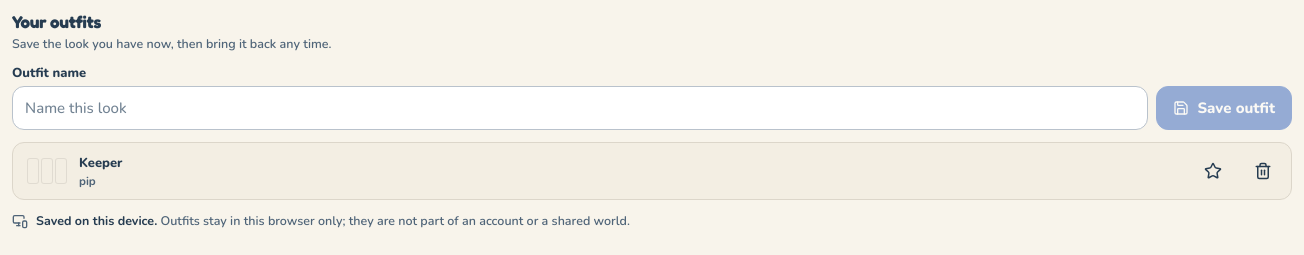
wardrobe panel › asks before removing and keeps the outfit when the removal is declined
This screenshot has width=1304, height=255.
Click the button named "Remove Keeper" at (1263, 171), box [1241,149,1285,193]
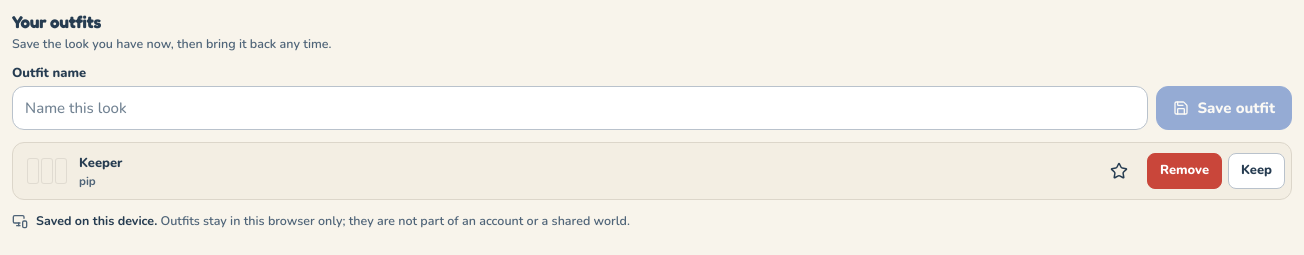
Now the element named "Remove Keeper?" is shown, box [1147,153,1285,189]
Click the button with aria-label "Keep Keeper" at (1256, 171), box [1228,153,1285,189]
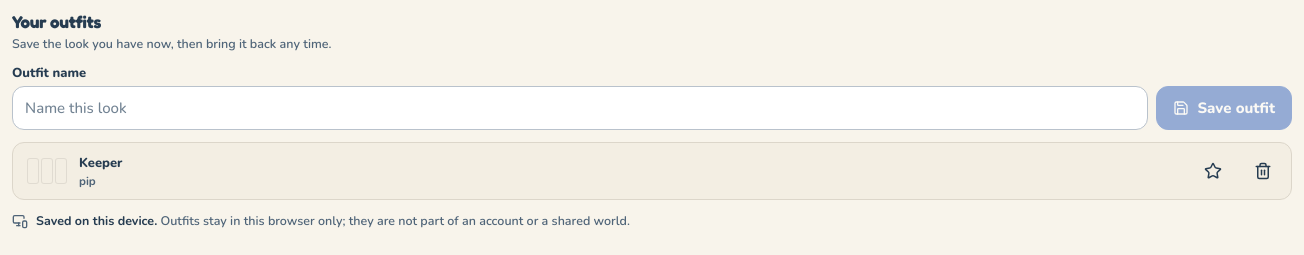
Click the button named "Remove Keeper" at (1263, 171), box [1241,149,1285,193]
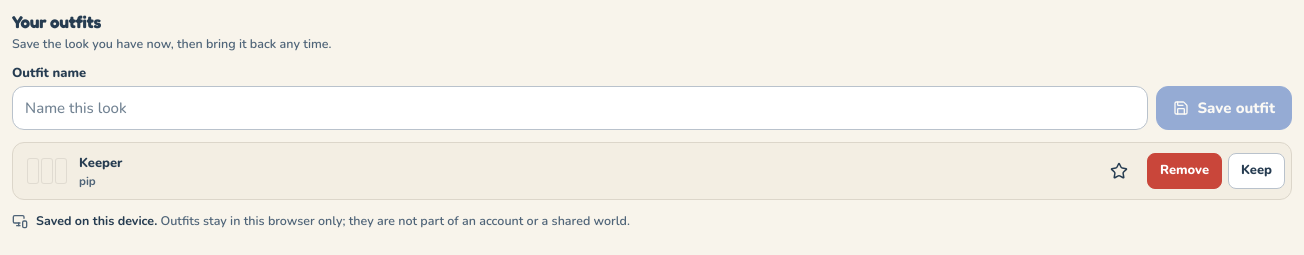
Click the button with aria-label "Confirm remove Keeper" at (1184, 171), box [1147,153,1222,189]
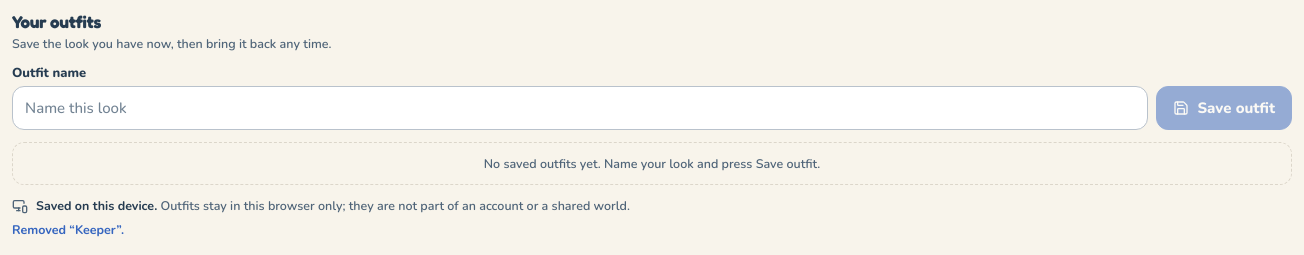
Now the message reads "Removed “Keeper”.", box [12,221,124,238]
